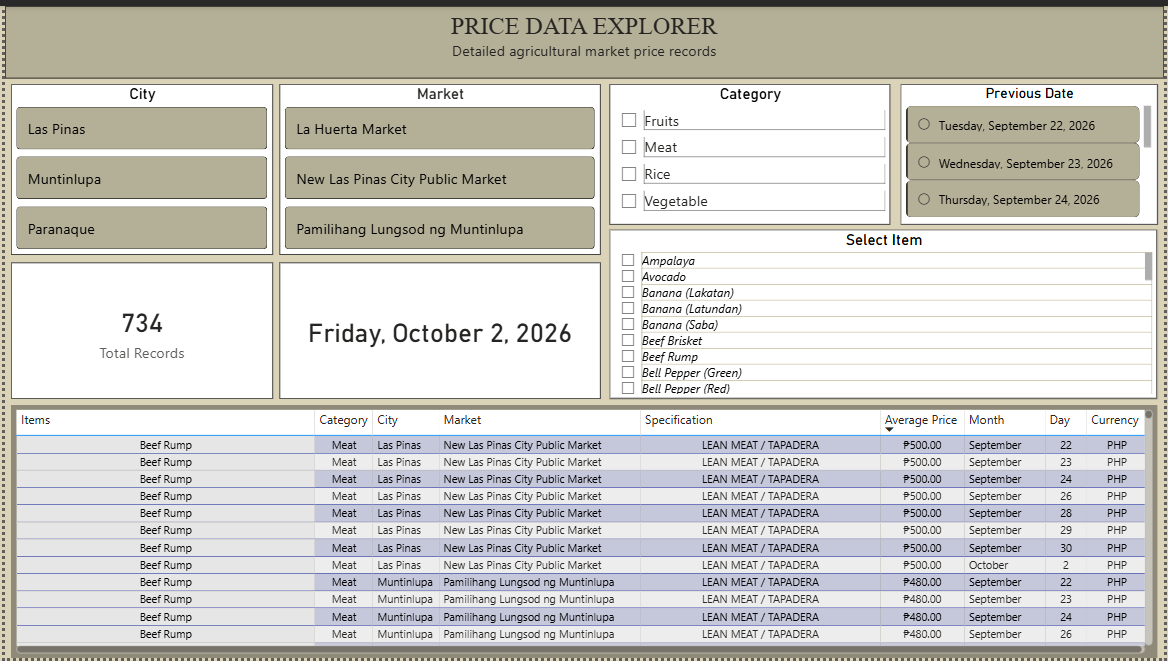

What the dashboard file says about the page in this screenshot:
{"tool":"powerbi","page":{"name":"PRICE DETAILS / DATA EXPLORER","canvas":[1280,720],"ordinal":2},"visuals":[{"type":"textbox","box":[0,0,1280,80],"z":0},{"type":"slicer","title":"Category","fields":{"Values":["agriproject_db vw_price_analysis.category_name"]},"box":[667.4,86.1,310.1,155.1],"z":1000},{"type":"advancedSlicerVisual","title":"City","fields":{"Values":["agriproject_db vw_price_analysis.city_name"]},"box":[6.3,86.1,289.3,188.6],"z":2000},{"type":"advancedSlicerVisual","title":"Market","fields":{"Values":["agriproject_db vw_price_analysis.market_name"]},"box":[303.8,86.1,354.6,188.6],"z":3000},{"type":"slicer","title":"Select Item","fields":{"Values":["agriproject_db vw_price_analysis.item_name"]},"box":[667.4,247.6,604.8,186.8],"z":4000},{"type":"listSlicer","title":"Previous Date ","fields":{"Values":["agriproject_db vw_price_analysis.price_date"]},"box":[988.4,86.1,283.8,155.1],"z":5000},{"type":"tableEx","fields":{"Values":["agriproject_db vw_price_analysis.item_name","agriproject_db vw_price_analysis.category_name","agriproject_db vw_price_analysis.city_name","agriproject_db vw_price_analysis.market_name","agriproject_db vw_price_analysis.specification","agriproject_db vw_price_analysis.Average Price","agriproject_db vw_price_analysis.price_date.Variation.Date Hierarchy.Month","agriproject_db vw_price_analysis.price_date.Variation.Date Hierarchy.Day","agriproject_db vw_price_analysis.currency"]},"box":[6.3,440.7,1265.9,279.3],"z":6000},{"type":"card","fields":{"Values":["agriproject_db vw_price_analysis.Total price records"]},"box":[6.3,283.8,289.3,150.5],"z":7000},{"type":"card","fields":{"Values":["agriproject_db vw_price_analysis.Latest Date"]},"box":[303.8,283.8,354.6,150.5],"z":8000}]}

Visuals, with their boxes in screenshot pixels (x1, y1, x2, y2), scaled from the page's 1280x720 canvas onto the 1168x661 screenshot:
textbox: left=0, top=0, right=1167, bottom=73
"Category" slicer: left=609, top=79, right=892, bottom=221
"City" advancedSlicerVisual: left=6, top=79, right=270, bottom=252
"Market" advancedSlicerVisual: left=277, top=79, right=601, bottom=252
"Select Item" slicer: left=609, top=227, right=1161, bottom=399
"Previous Date " listSlicer: left=902, top=79, right=1161, bottom=221
tableEx - agriproject_db vw_price_analysis.item_name x agriproject_db vw_price_analysis.category_name: left=6, top=405, right=1161, bottom=660
card - agriproject_db vw_price_analysis.Total price records: left=6, top=261, right=270, bottom=399
card - agriproject_db vw_price_analysis.Latest Date: left=277, top=261, right=601, bottom=399
